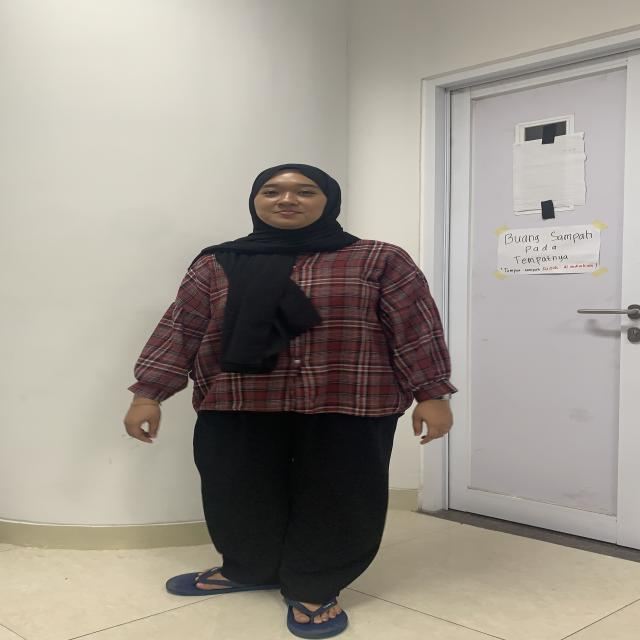jovem: (125, 151, 464, 635)
